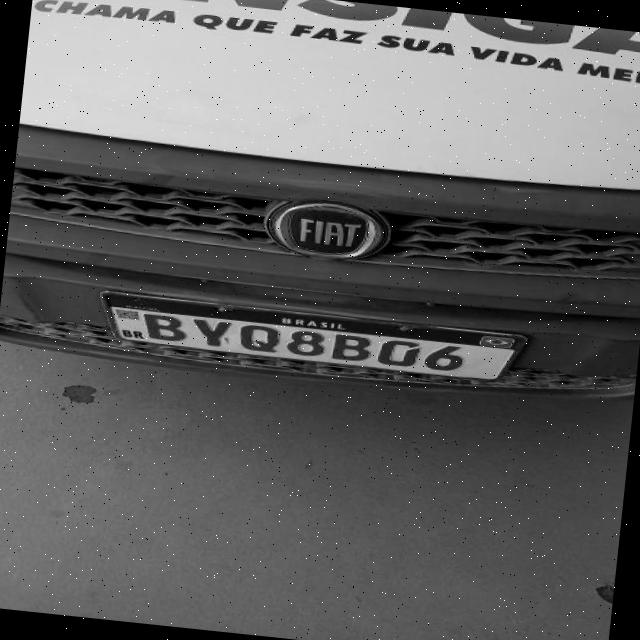placa_mercosul: (102, 292, 526, 379)
